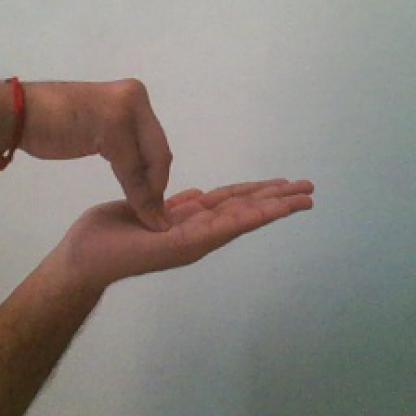Z: (40, 52, 327, 288)
